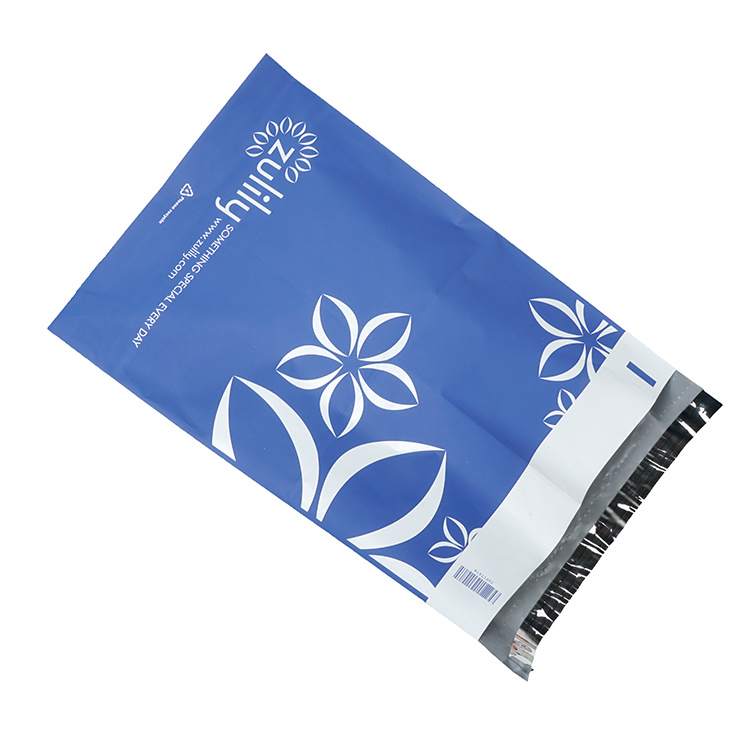塑料袋: (49, 56, 705, 667)
